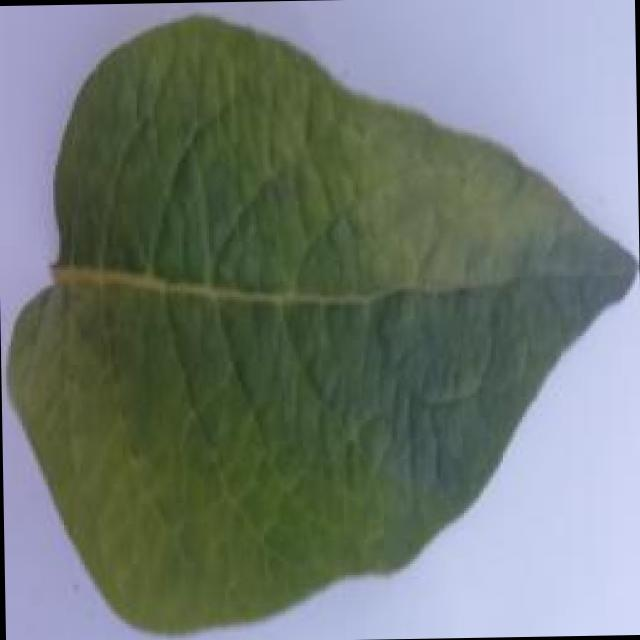Potato_Healthy: (7, 5, 636, 640)
